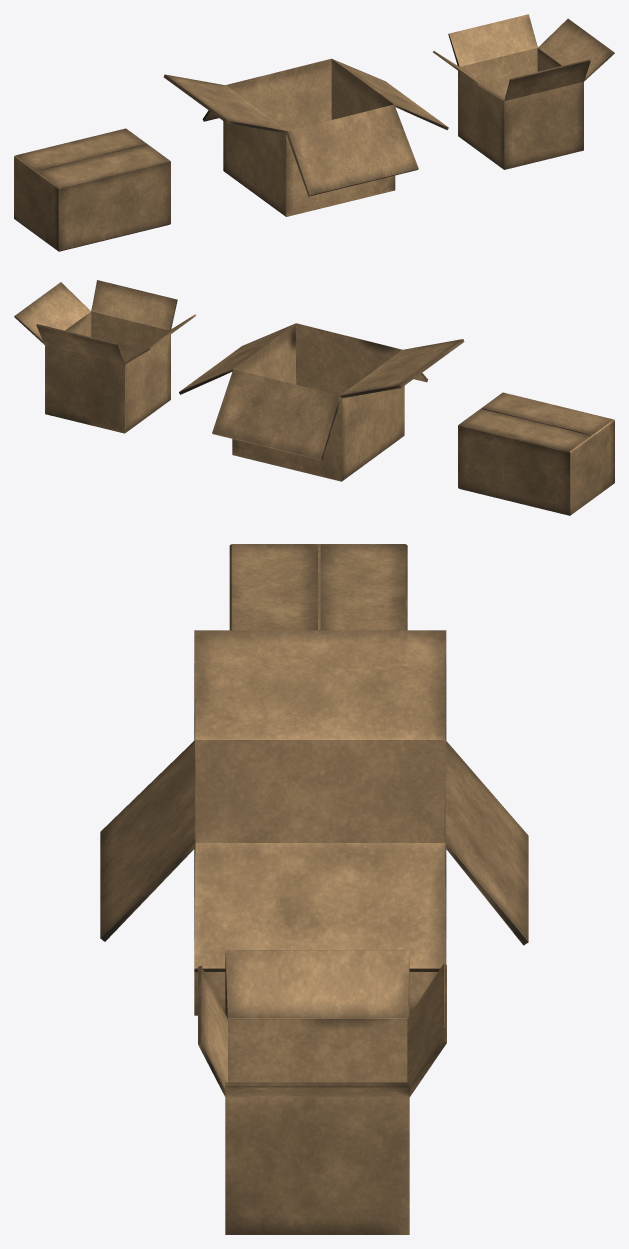
Rendered from Factory_Paper_Cratures.fbx.
The picture shows the model from 3 angles, top to bottom: view 1: azimuth 30°, elevation 25°; view 2: azimuth 150°, elevation 25°; view 3: azimuth 270°, elevation 25°; orthographic projection. The views are drawn at different scales.
Visible parts, largest first — view 1: Plane.033, Box2, Box3; view 2: Plane.033, Box2, Box3; view 3: Plane.033, Box2, Box3.
Part boxes in pixels (x1=…): Plane.033: x1=164, y1=58, x2=448, y2=216; Box2: x1=433, y1=14, x2=614, y2=169; Box3: x1=14, y1=128, x2=170, y2=251; Plane.033: x1=179, y1=323, x2=464, y2=481; Box2: x1=14, y1=280, x2=196, y2=433; Box3: x1=458, y1=392, x2=614, y2=515; Plane.033: x1=100, y1=630, x2=528, y2=1015; Box2: x1=198, y1=950, x2=446, y2=1234; Box3: x1=229, y1=544, x2=407, y2=630.
Size of the model in its own units: 692 by 148 by 231.
1 material, 1 textured.
